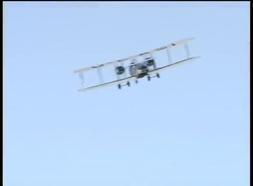aircraft: (73, 35, 201, 93)
